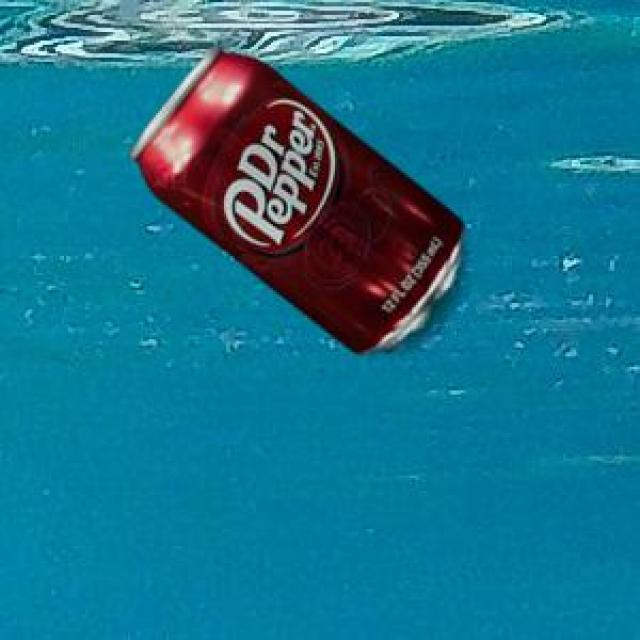logam: (127, 44, 460, 351)
